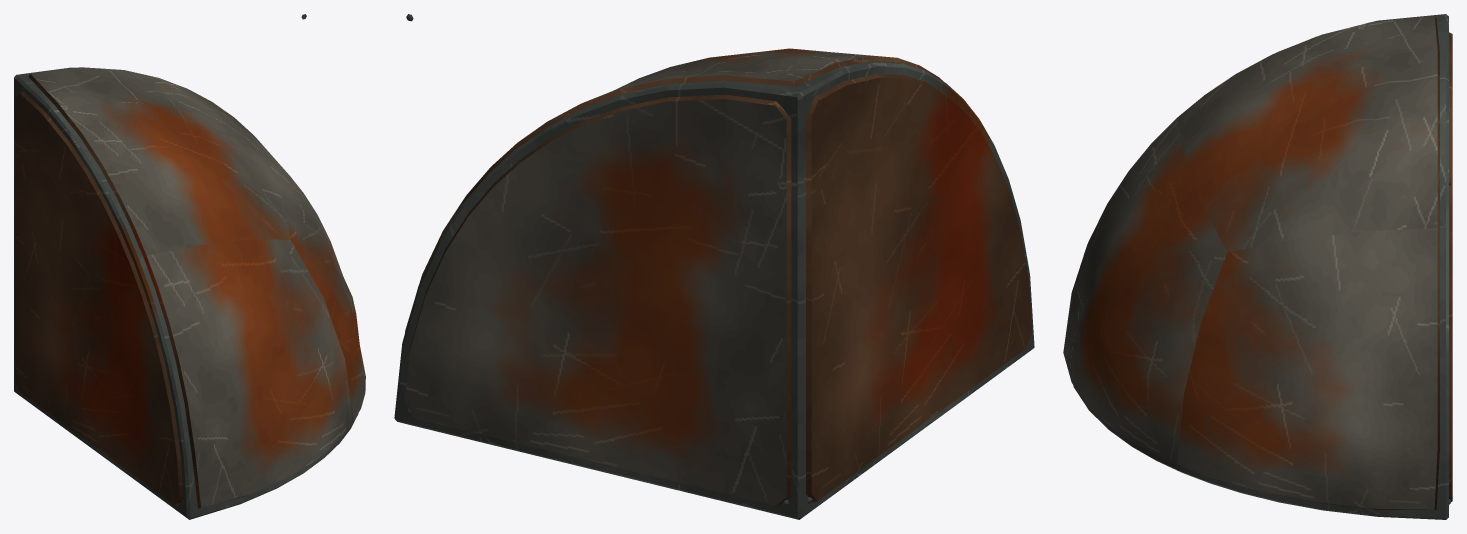
File: R4B_RoundCorner.glb
3 renders of one model, left to right at view 1: azimuth 30°, elevation 25°; view 2: azimuth 150°, elevation 25°; view 3: azimuth 270°, elevation 25°, orthographic. The views are drawn at different scales.
Parts seen in each view (by area): view 1: R4B_RoundCorner; view 2: R4B_RoundCorner; view 3: R4B_RoundCorner.
Boxes of the visible parts, x1,y1,x2,y2 form: R4B_RoundCorner: (14, 14, 365, 519); R4B_RoundCorner: (394, 14, 1034, 519); R4B_RoundCorner: (1063, 14, 1452, 519).
Bounding box in the file's own units: 0.5139 × 0.5139 × 0.5139.
Materials: 4 (4 with a texture image).
